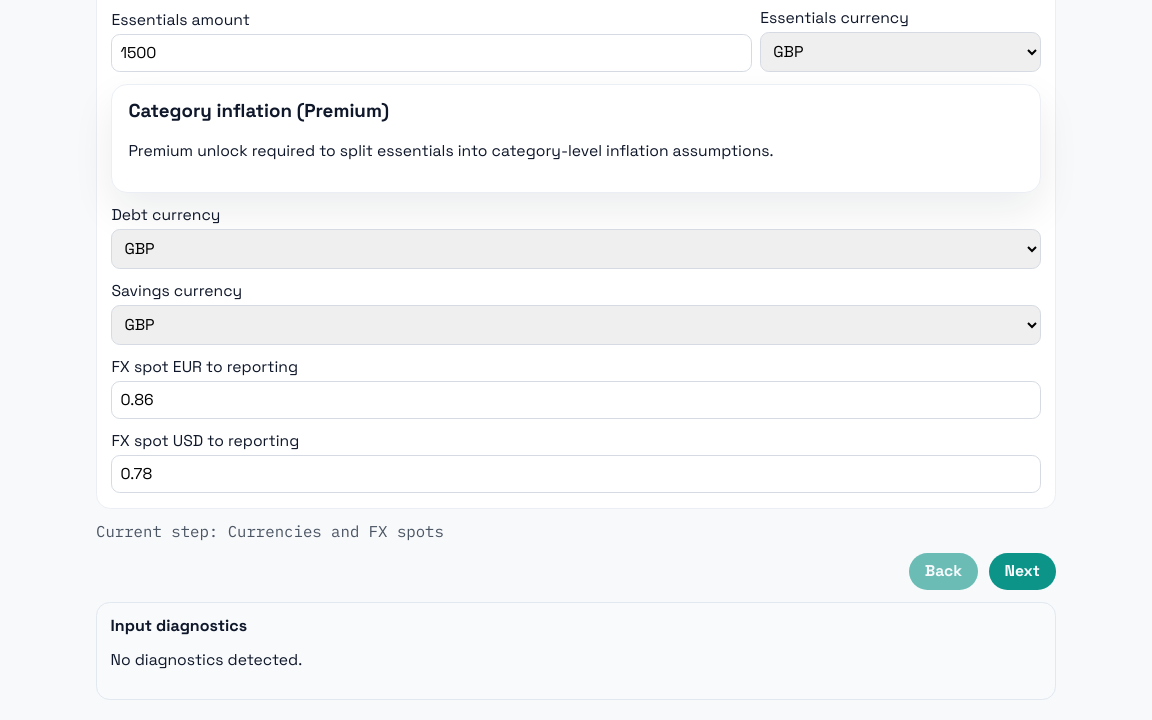
Scenario: StressTestPage › supports wizard step navigation
This screenshot has width=1152, height=720.
(page scrolled)
Step 1. Click the button "Next" → (1022, 571), box [988,553,1056,590]
(page scrolled)
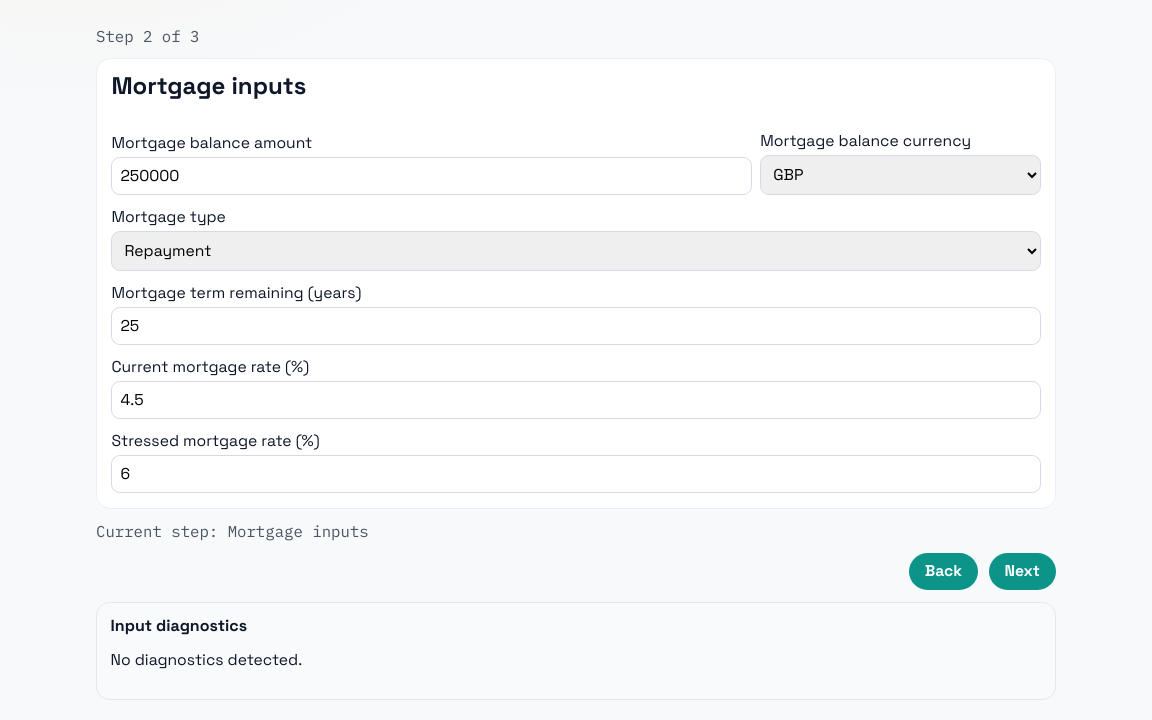
Now the text "Step 2 of 3" is shown, box [96,26,200,46]
Now the heading "Mortgage inputs" is shown, box [111,70,306,101]
Step 2. Click the button "Next" → (1022, 571), box [988,553,1056,590]
(page scrolled)
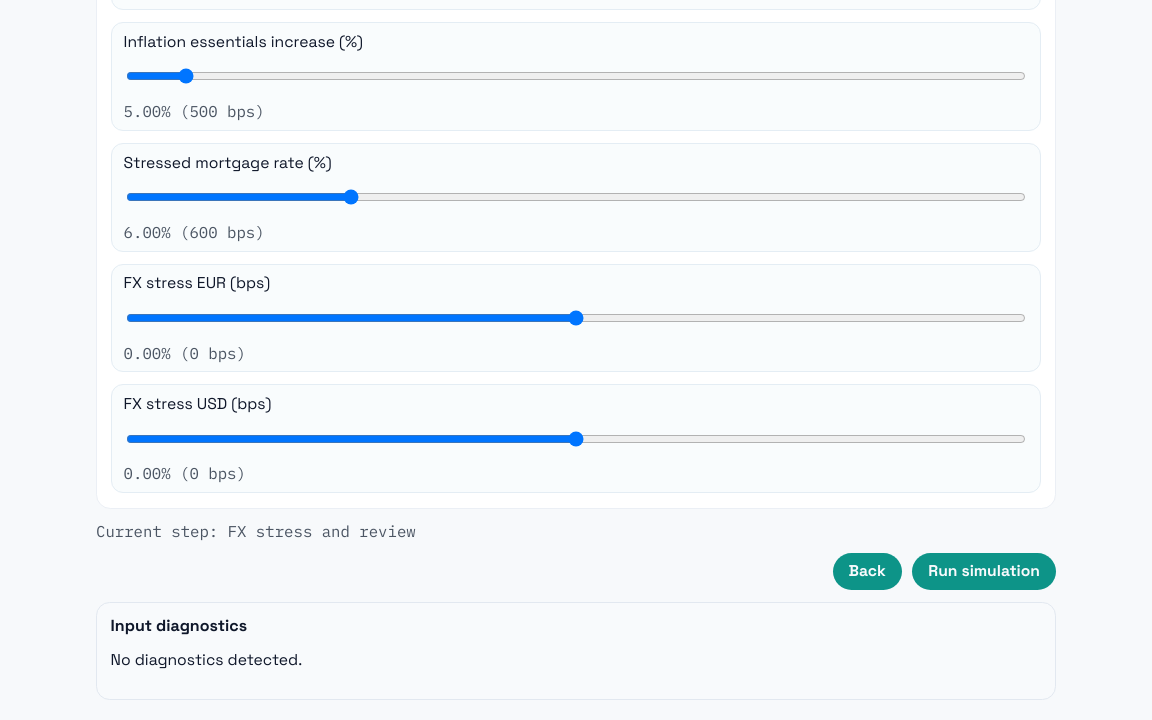
Step 3. Click the button "Back" → (867, 571), box [832,552,902,590]
(page scrolled)
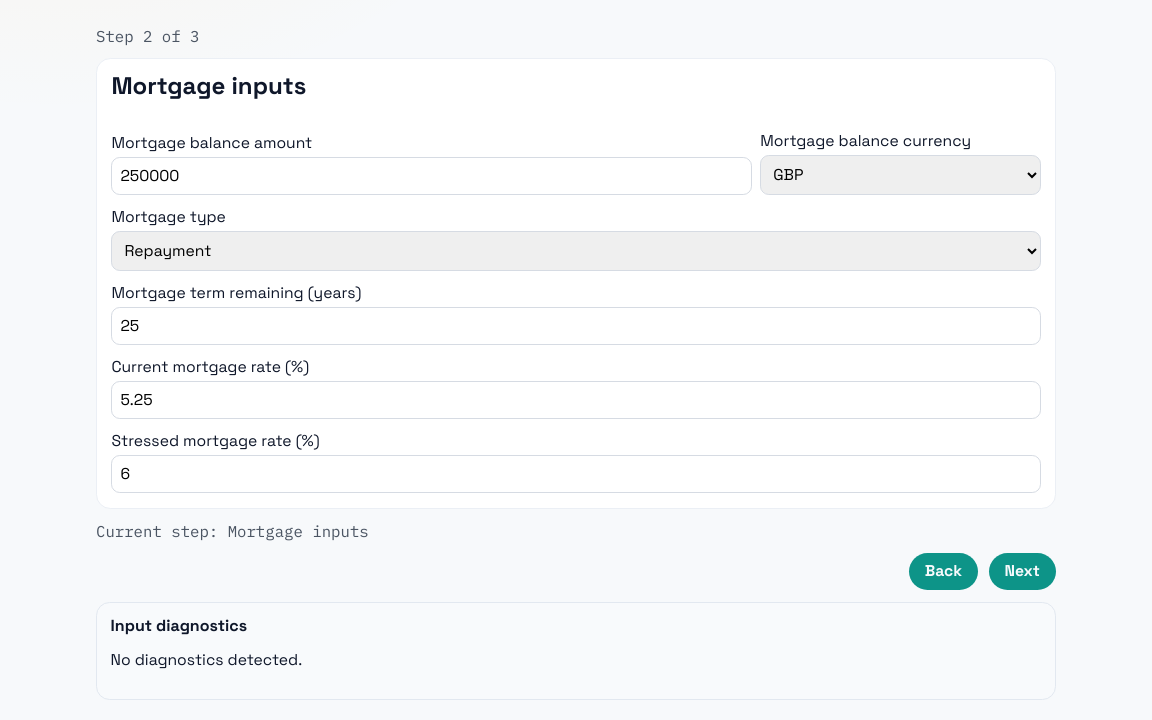
Now the text "Step 2 of 3" is shown, box [96,26,200,46]
